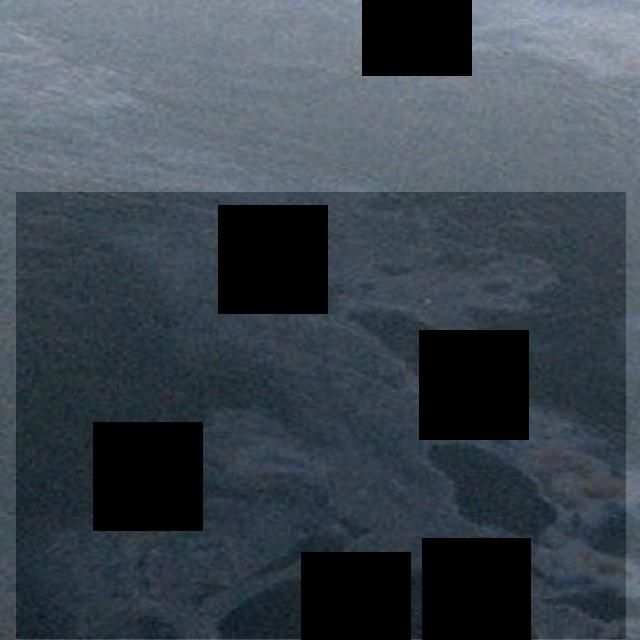oil spill: (16, 192, 626, 640)
